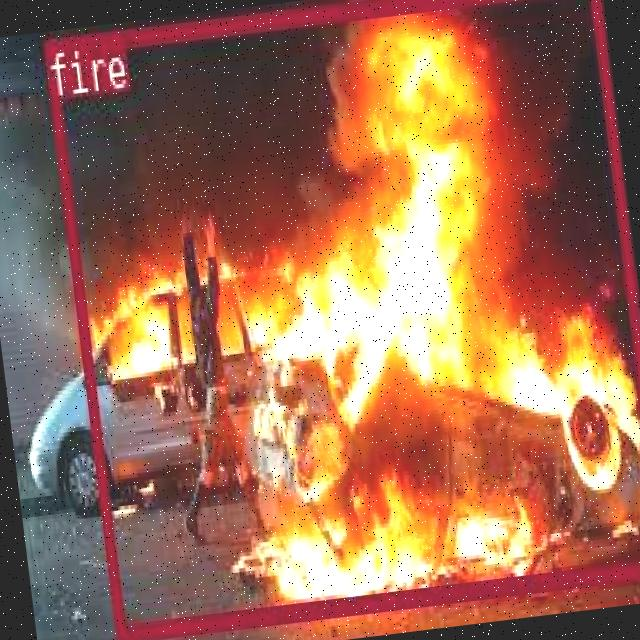fire: (40, 0, 640, 639)
